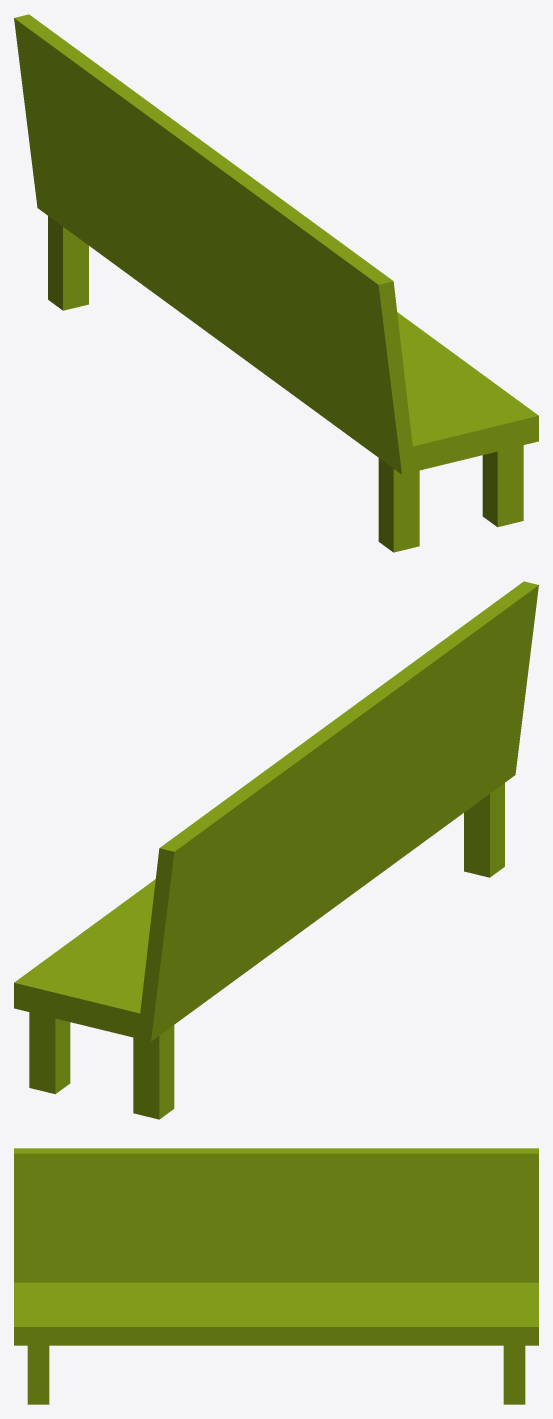
The model's file is bench.obj.
3 renders of one model, top to bottom at view 1: azimuth 30°, elevation 25°; view 2: azimuth 150°, elevation 25°; view 3: azimuth 270°, elevation 25°, orthographic. The views are drawn at different scales.
Visible parts, largest first — view 1: Cube; view 2: Cube; view 3: Cube.
Part boxes in pixels (left/top/right/bottom): Cube: left=14, top=14, right=538, bottom=552; Cube: left=14, top=581, right=538, bottom=1119; Cube: left=14, top=1148, right=538, bottom=1404.
Bounding box in the file's own units: 0.2422 × 0.405 × 0.9531.
